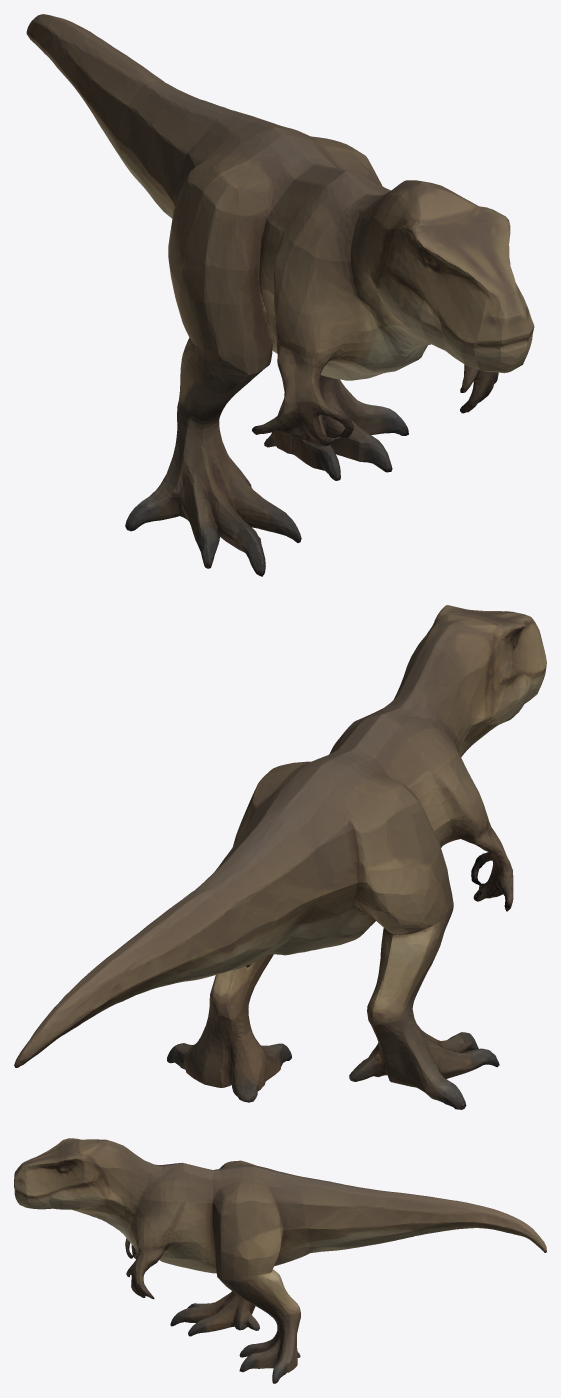
The picture shows the model from 3 angles, top to bottom: view 1: azimuth 30°, elevation 25°; view 2: azimuth 150°, elevation 25°; view 3: azimuth 270°, elevation 25°; orthographic projection. The views are drawn at different scales.
Visible parts, largest first — view 1: world; view 2: world; view 3: world.
Part boxes in pixels (x1,y1,x2,y2): world: [26, 14, 534, 576]; world: [14, 605, 546, 1109]; world: [14, 1138, 546, 1383].
Size of the model in its own units: 0.3376 by 0.4341 by 1.
1 material, 1 textured.
